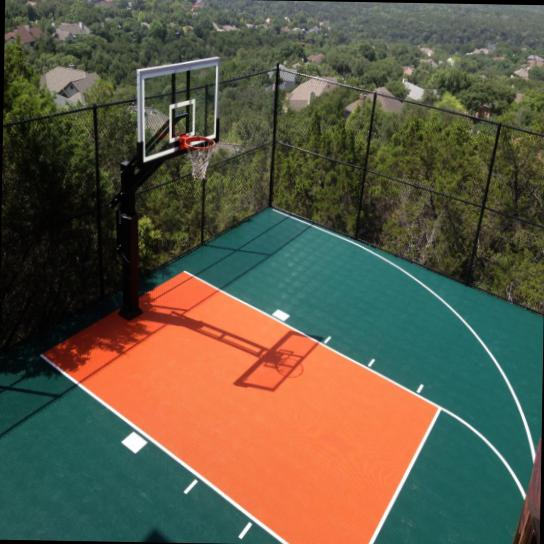basketball-hoop: (182, 135, 216, 180)
